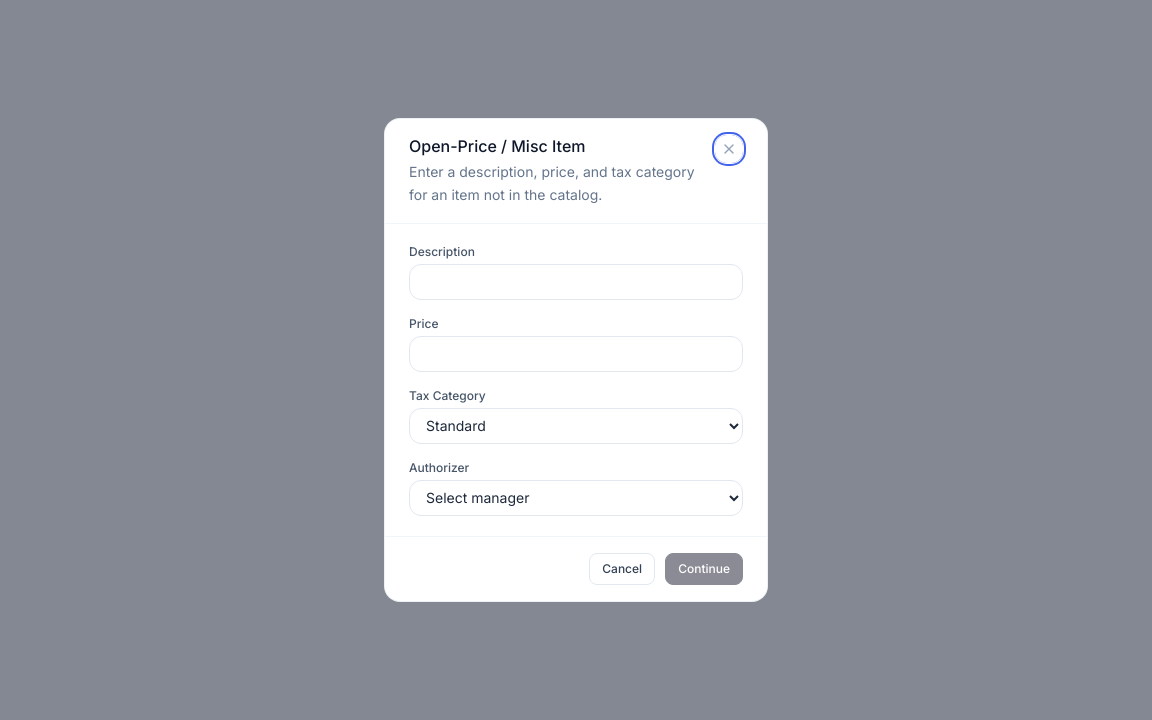
ManualItemModal › disables Continue until description, a valid price, and an authorizer are all set
Expected: the button "Continue" is disabled, [665, 553, 743, 585]
Type "Repair fee" into the field labelled "Description" at [576, 282], box [409, 264, 743, 300]
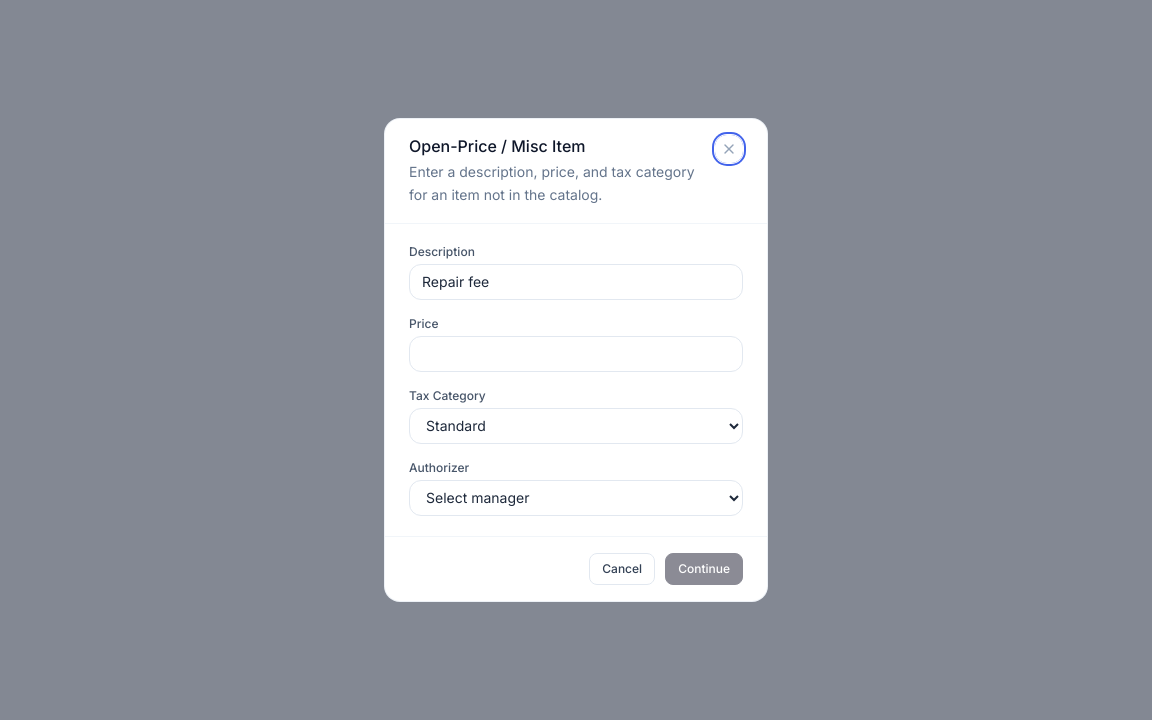
Expected: the button "Continue" is disabled, [665, 553, 743, 585]
Type "12.5" into the number field labelled "Price" at [576, 354], box [409, 336, 743, 372]
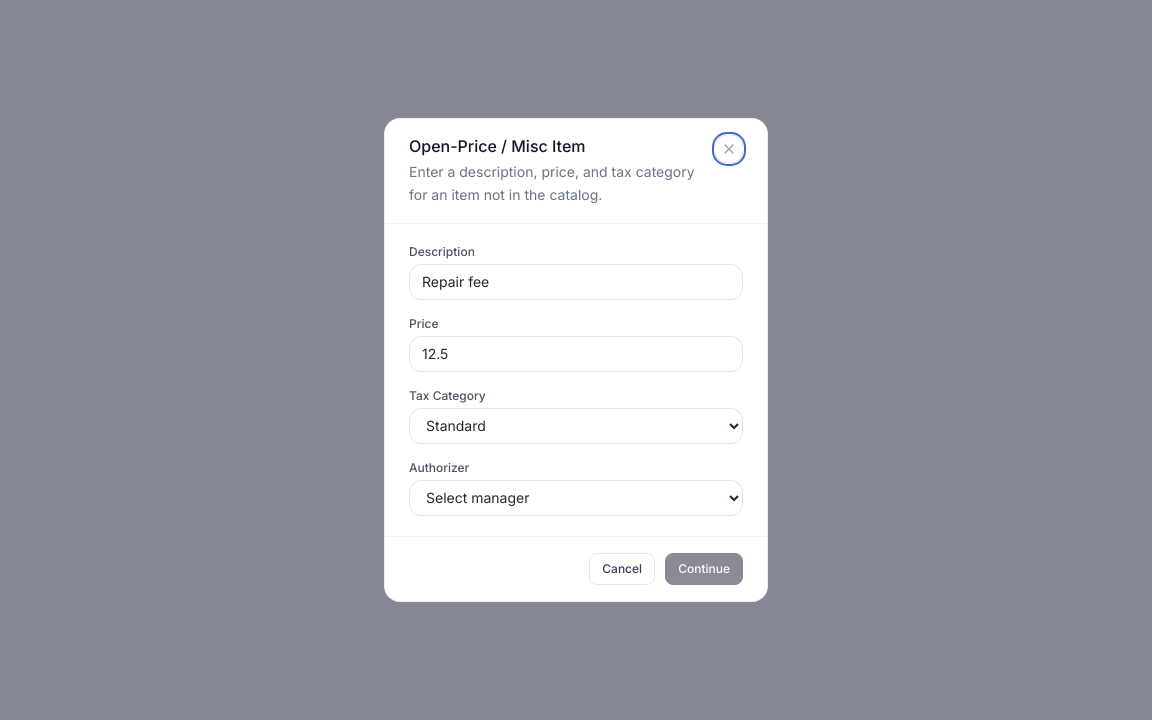
Expected: the button "Continue" is disabled, [665, 553, 743, 585]
Select "Mona Manager" in the dropdown labelled "Authorizer" at [576, 498], box [409, 480, 743, 516]
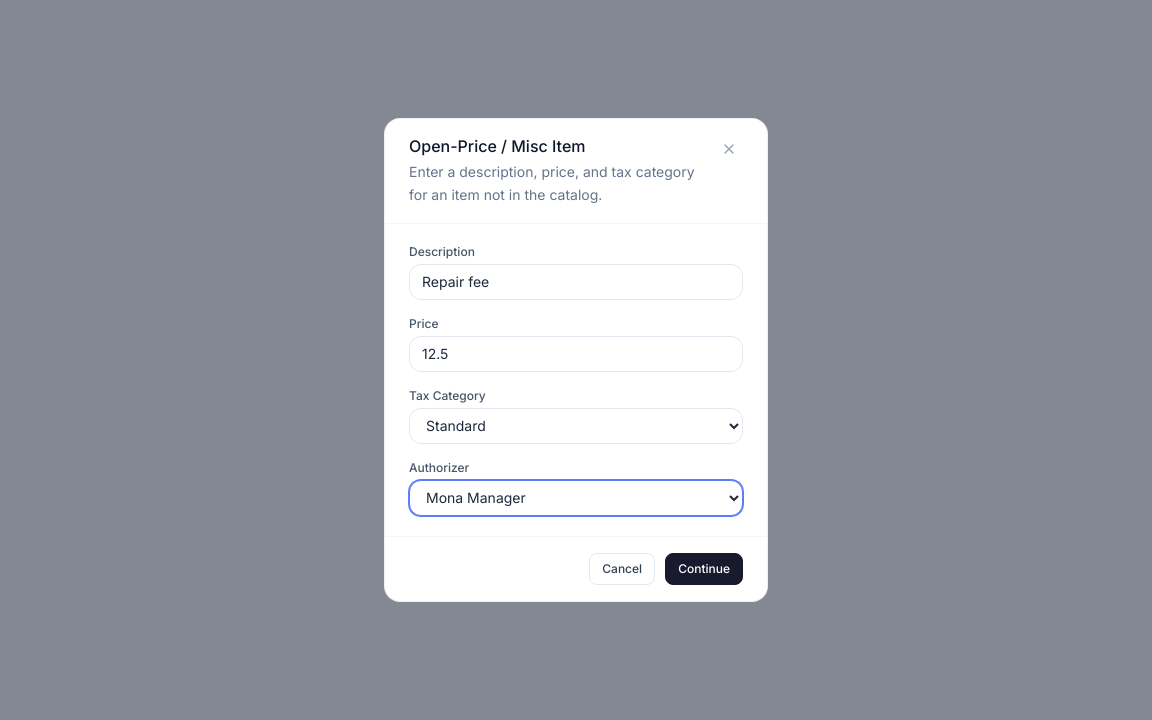
Expected: the button "Continue" is enabled, [665, 553, 743, 585]
